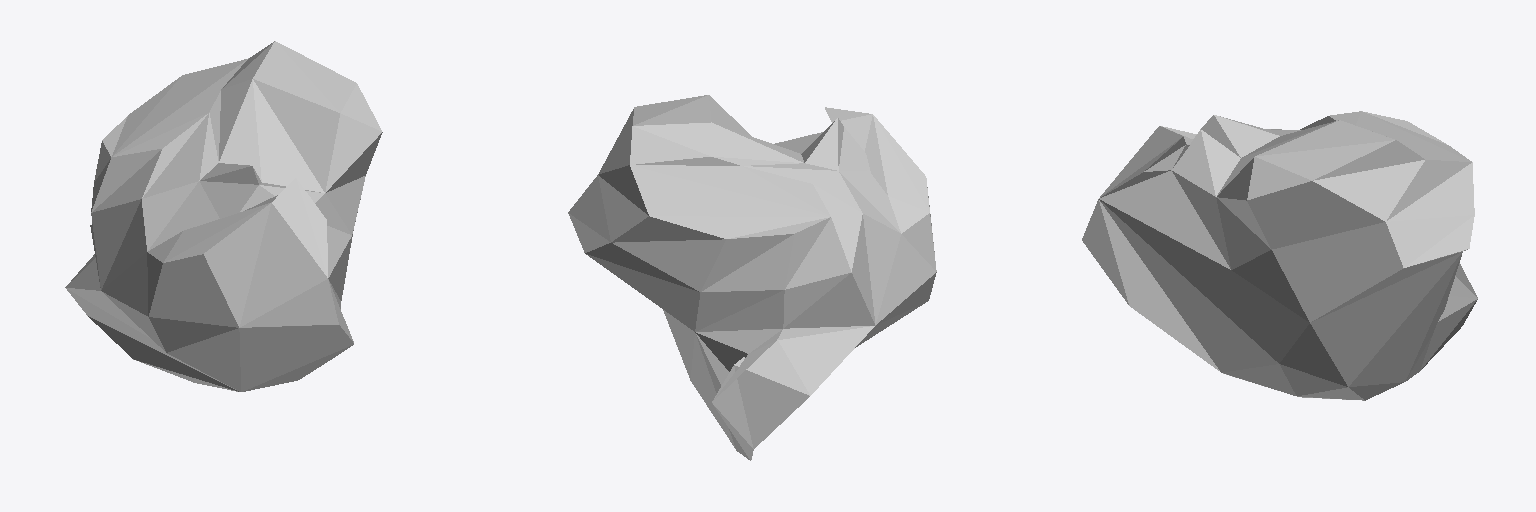
File: Roca7.obj
3 views of the same model, side by side, from view 1: azimuth 30°, elevation 25°; view 2: azimuth 150°, elevation 25°; view 3: azimuth 270°, elevation 25° (orthographic).
Visible parts, largest first — view 1: Icosphere; view 2: Icosphere; view 3: Icosphere.
Boxes of the visible parts, x1=… form: Icosphere: x1=65, y1=41, x2=382, y2=391; Icosphere: x1=568, y1=95, x2=936, y2=460; Icosphere: x1=1082, y1=111, x2=1477, y2=400.
Bounding box in the file's own units: 3.33 × 3.54 × 4.14.